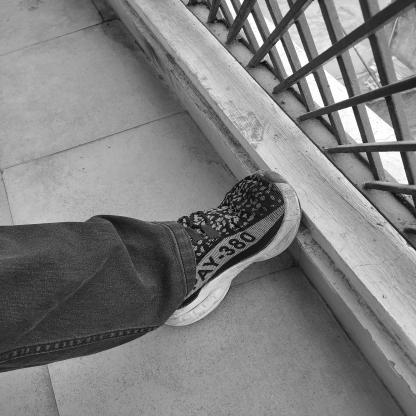ankle: (181, 273, 189, 277)
heel: (172, 319, 179, 324)
left_foot: (165, 171, 301, 327)
pinky: (245, 183, 250, 186)
toe: (278, 193, 287, 199)
